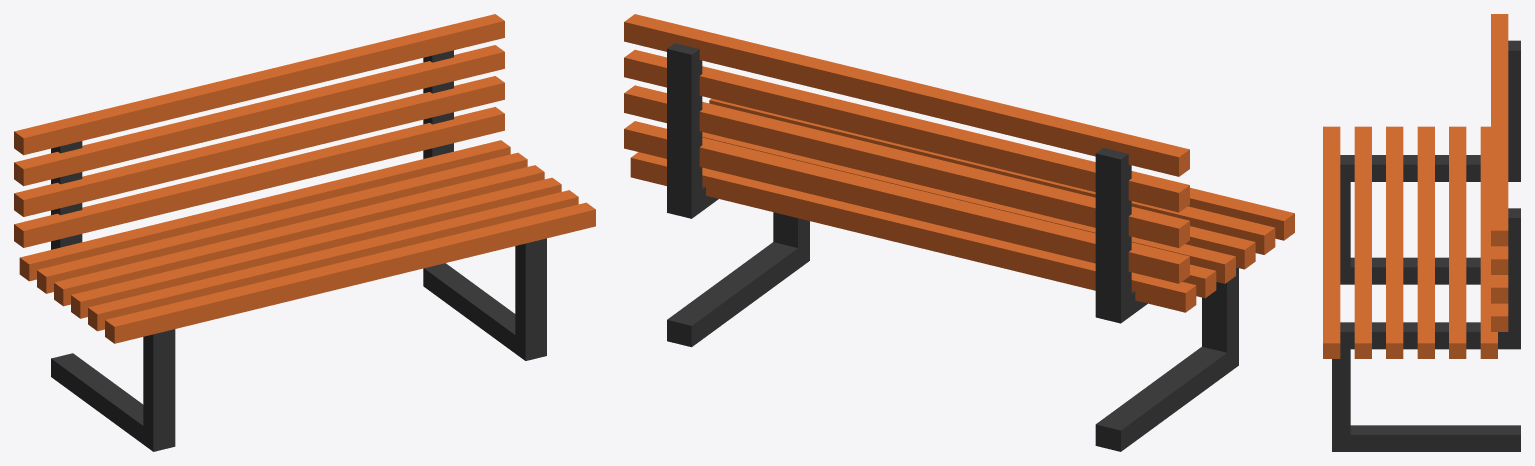
The model's file is Panchina.fbx.
3 renders of one model, left to right at view 1: azimuth 30°, elevation 25°; view 2: azimuth 150°, elevation 25°; view 3: azimuth 270°, elevation 25°, orthographic. The views are drawn at different scales.
Parts seen in each view (by area): view 1: panchina; view 2: panchina; view 3: panchina.
Boxes of the visible parts, <box> form: panchina: <box>14,14,595,451</box>; panchina: <box>624,14,1294,451</box>; panchina: <box>1323,14,1520,451</box>.
Size of the model in its own units: 326 by 169 by 126.
